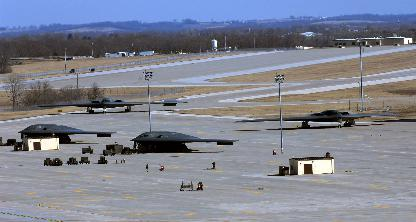B1: (231, 109, 401, 127), (36, 97, 188, 113), (129, 130, 238, 151), (18, 123, 116, 142)
